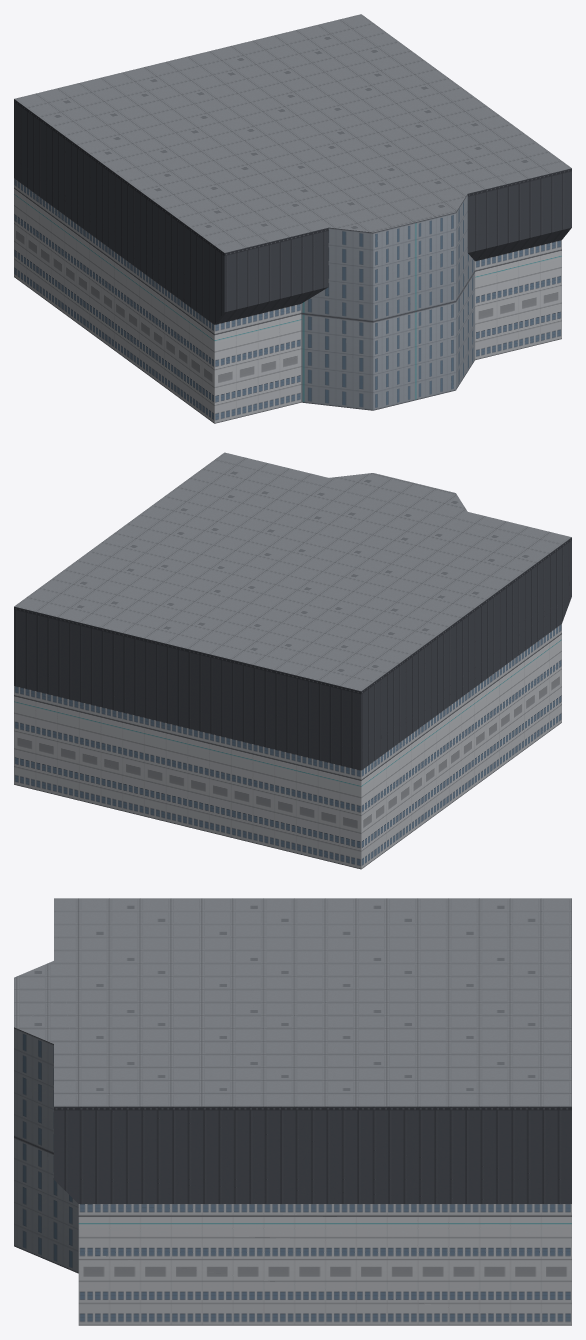
File: BLD_POD_CapEdge2.fbx
The picture shows the model from 3 angles, top to bottom: view 1: azimuth 30°, elevation 25°; view 2: azimuth 150°, elevation 25°; view 3: azimuth 270°, elevation 25°; orthographic projection. The views are drawn at different scales.
Parts seen in each view (by area): view 1: BLD_POD_CapEdge2; view 2: BLD_POD_CapEdge2; view 3: BLD_POD_CapEdge2.
Part boxes in pixels (bbox=[...]): BLD_POD_CapEdge2: bbox=[14, 14, 571, 423]; BLD_POD_CapEdge2: bbox=[14, 452, 571, 869]; BLD_POD_CapEdge2: bbox=[14, 898, 571, 1325].
Bounding box in the file's own units: 100 × 49 × 113.
